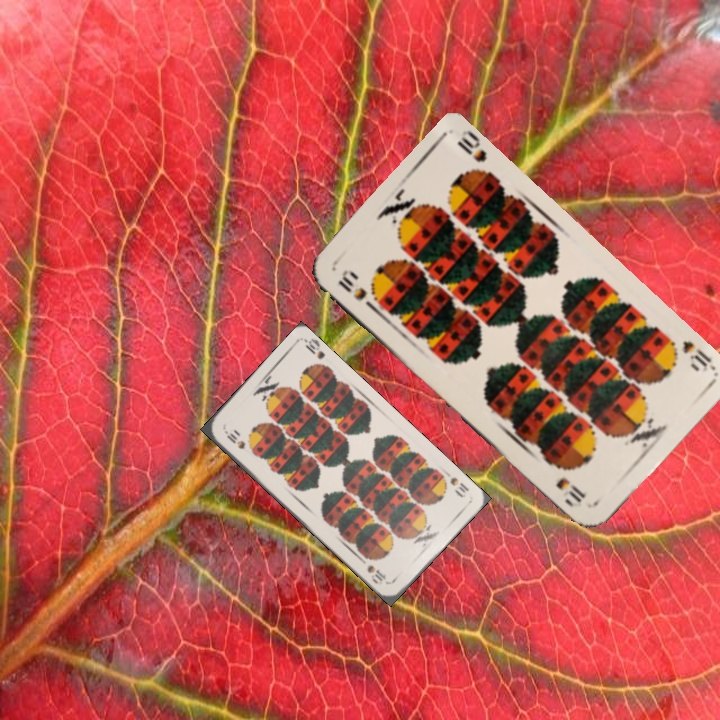S10: (333, 267, 378, 313), (678, 336, 717, 375), (439, 466, 472, 500), (220, 426, 248, 452)
